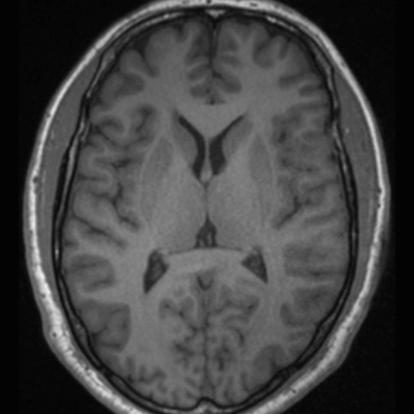Normal_Brain: (1, 1, 414, 414)
